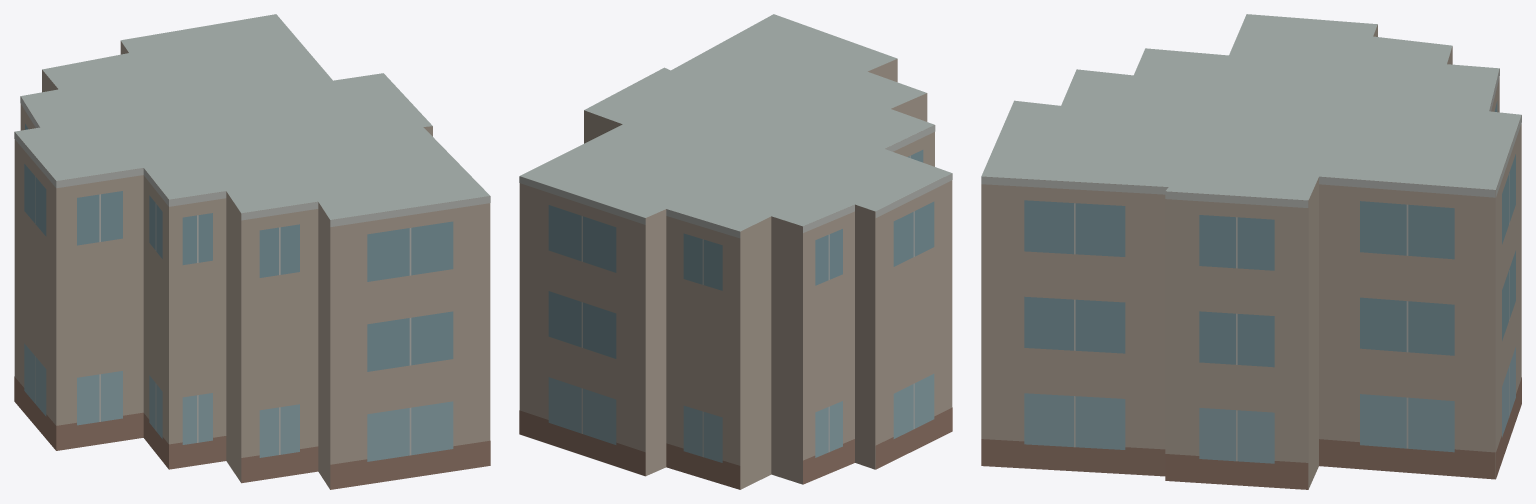
The model's file is survey-upis-32869100.glb.
3 views of the same model, side by side, from view 1: azimuth 30°, elevation 25°; view 2: azimuth 150°, elevation 25°; view 3: azimuth 270°, elevation 25° (orthographic). The views are drawn at different scales.
Parts seen in each view (by area): view 1: survey-upis-32869100.tmp; view 2: survey-upis-32869100.tmp; view 3: survey-upis-32869100.tmp.
Part boxes in pixels (box(x1,y1,x2,y2)): survey-upis-32869100.tmp: box(14, 14, 490, 489); survey-upis-32869100.tmp: box(519, 14, 952, 489); survey-upis-32869100.tmp: box(981, 14, 1521, 489).
Size of the model in its own units: 12.65 by 9.15 by 15.5.
